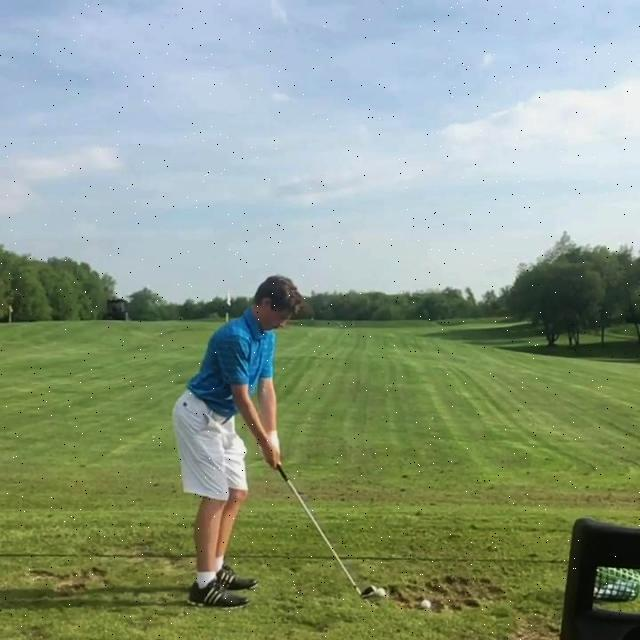golf ball: (421, 599, 433, 609), (377, 588, 385, 598)
golf club-handle: (274, 460, 379, 602)
golf club-head: (363, 583, 379, 598)
